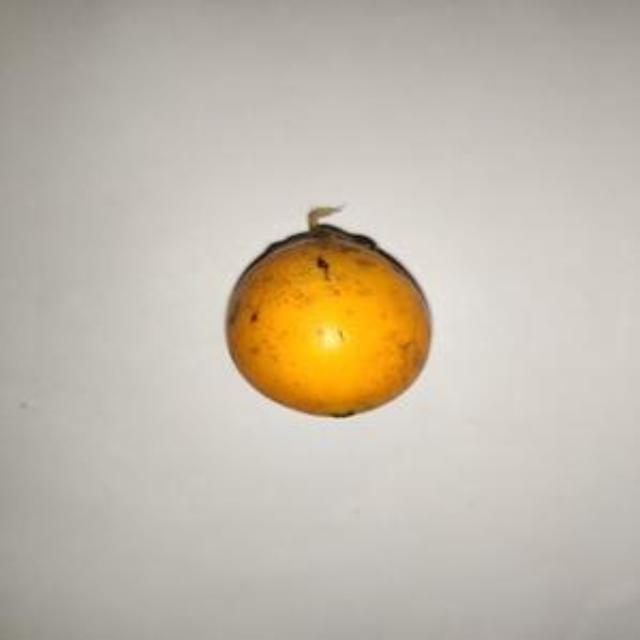good: (223, 225, 432, 422)
